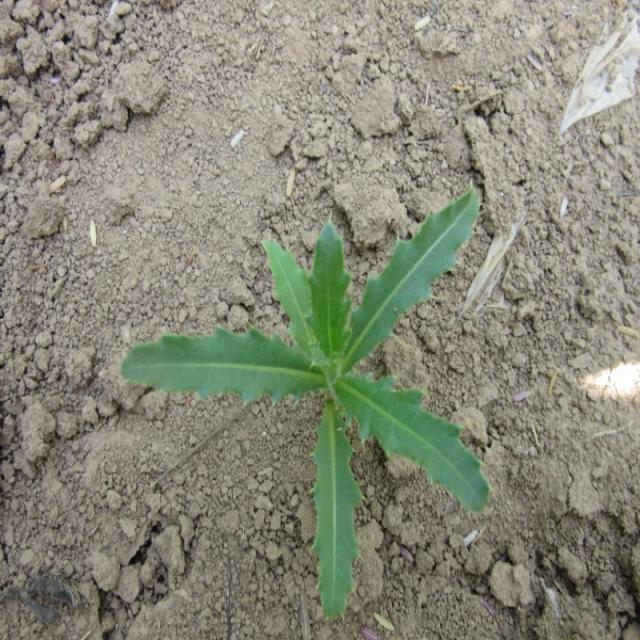field_thistle: (91, 182, 497, 616)
